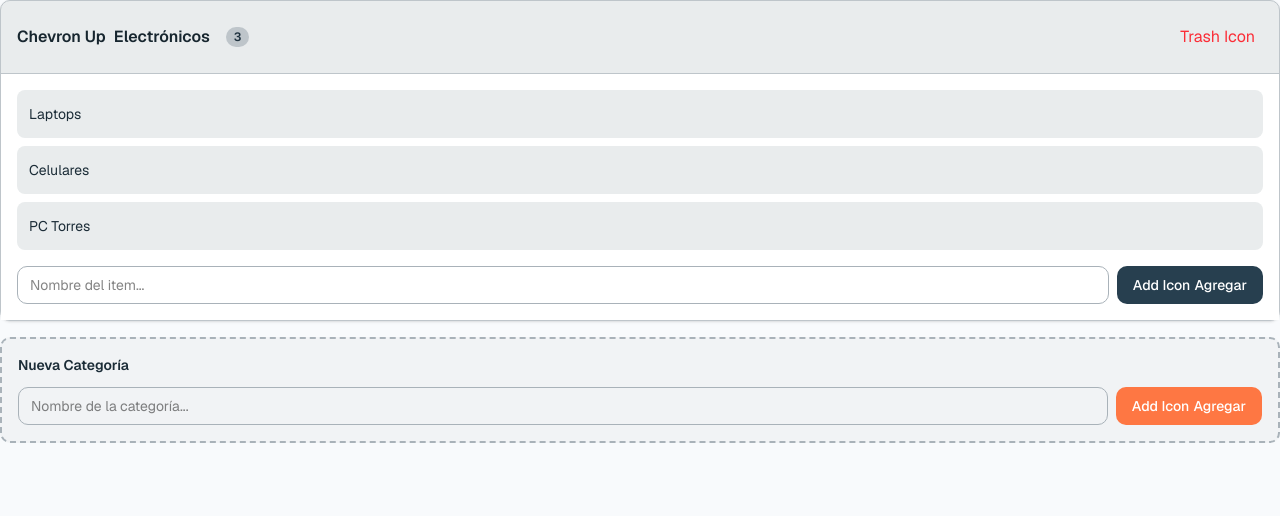
Scenario: CategoryManager Component › Item Management › should add a new item to a category
Type "Tablets" into the field with placeholder "Nombre del item..." at (563, 285), box [17, 266, 1109, 304]
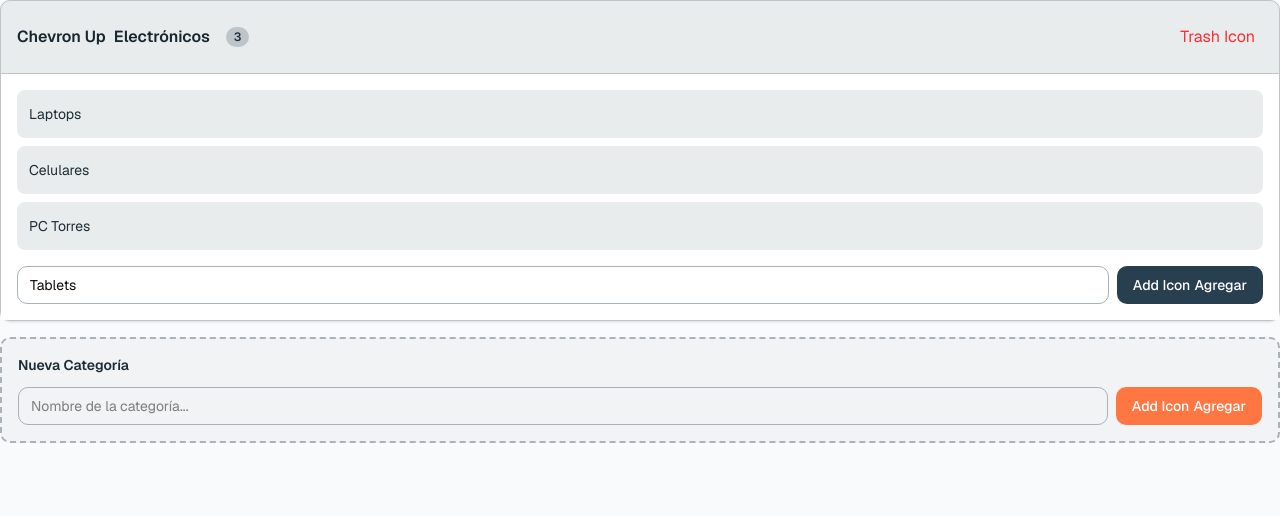
Click the 1st text "Agregar" at (1221, 285), box [1194, 275, 1247, 295]
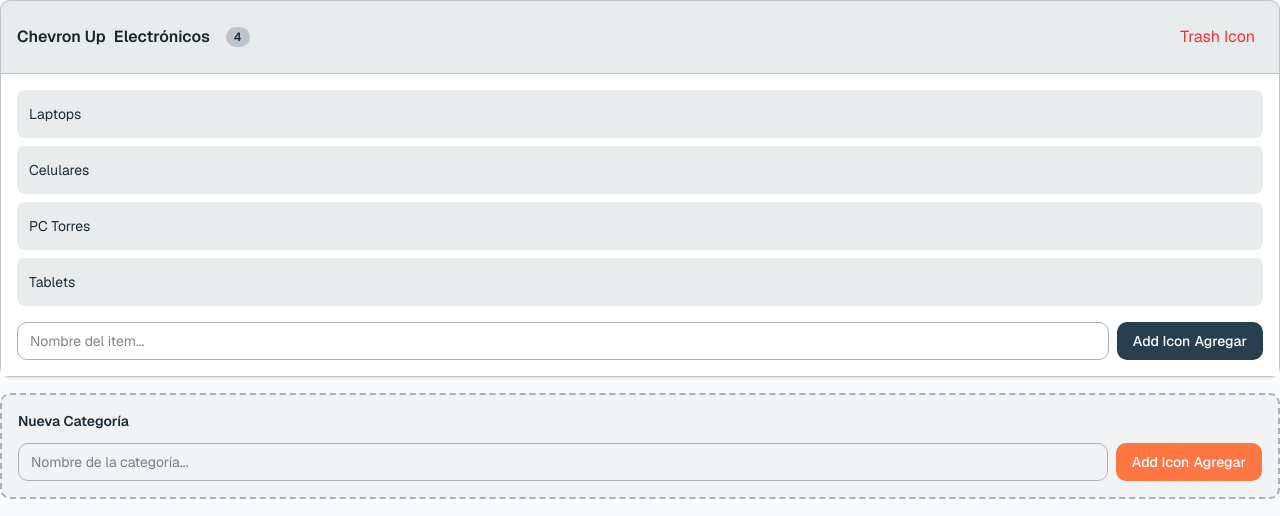
Expected: the text "Tablets" is shown, [29, 272, 75, 292]
